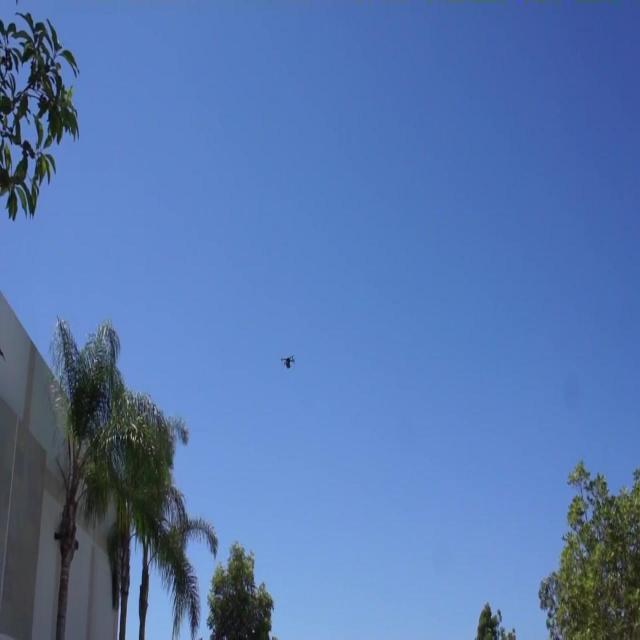UAV: (280, 355, 294, 369)
